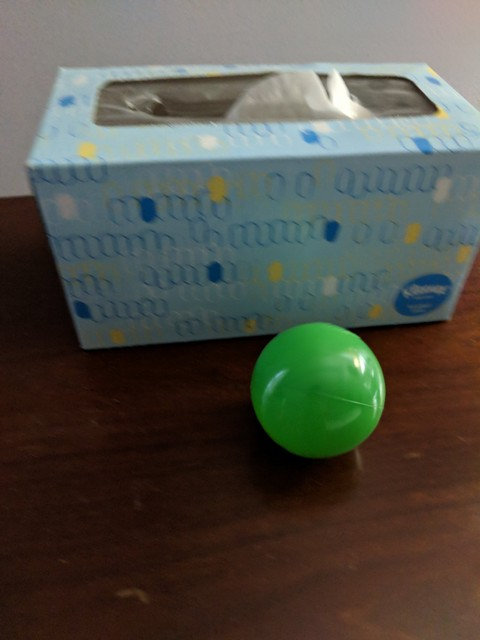ball: (252, 321, 385, 462)
